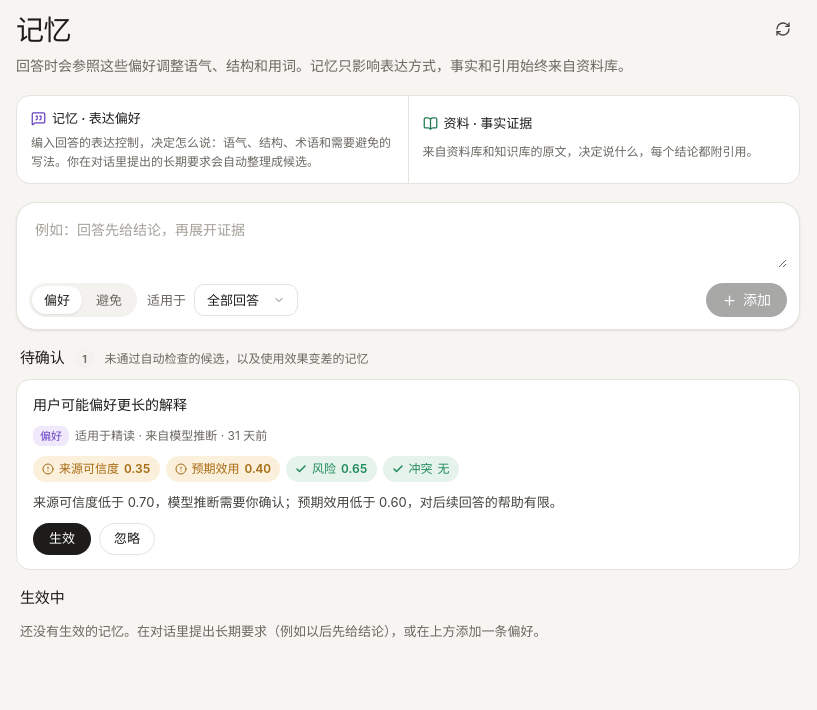
Test case: MemoryReviewWorkbench › surfaces a failed decision
Click the button "生效".
click(62, 539)  # box top-left (33, 523), bottom-right (91, 555)
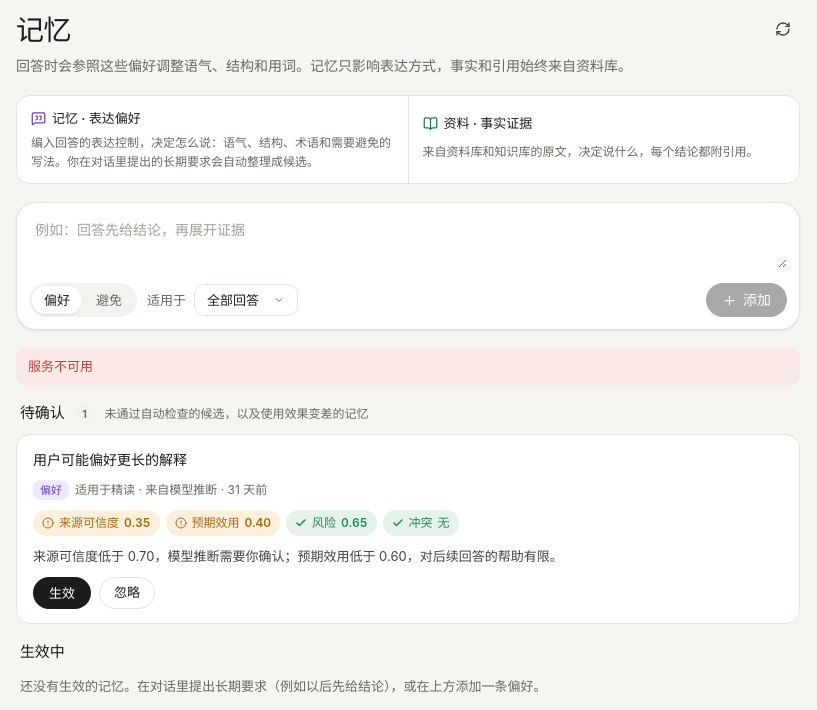
Check: the message reads "服务不可用", box top-left (28, 358), bottom-right (93, 374)
